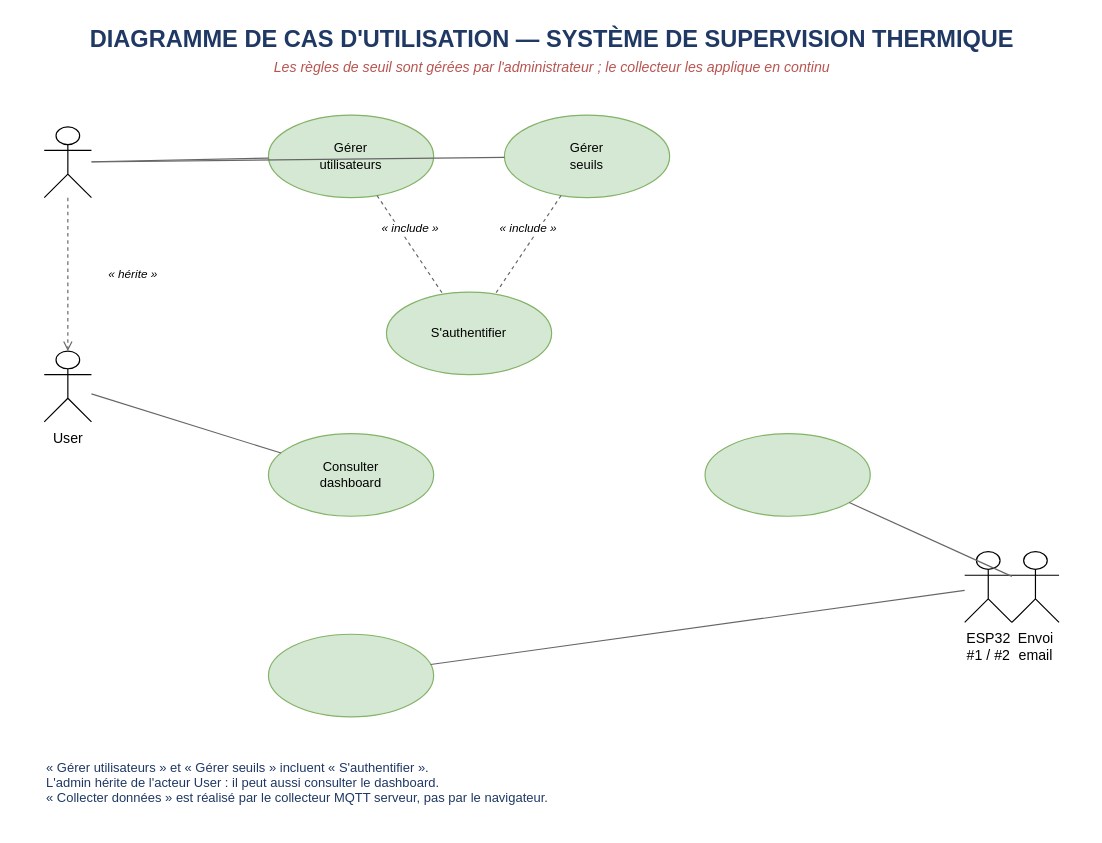
This 1102x843 diagram has some shape labels left out. The shapes that lost their labels are listed below. From the top down, each one's centre as x and y in pixels, then its label:
At [67,162]: "Admin".
At [787,474]: "Gérer alertes".
At [350,675]: "Collecter données".
